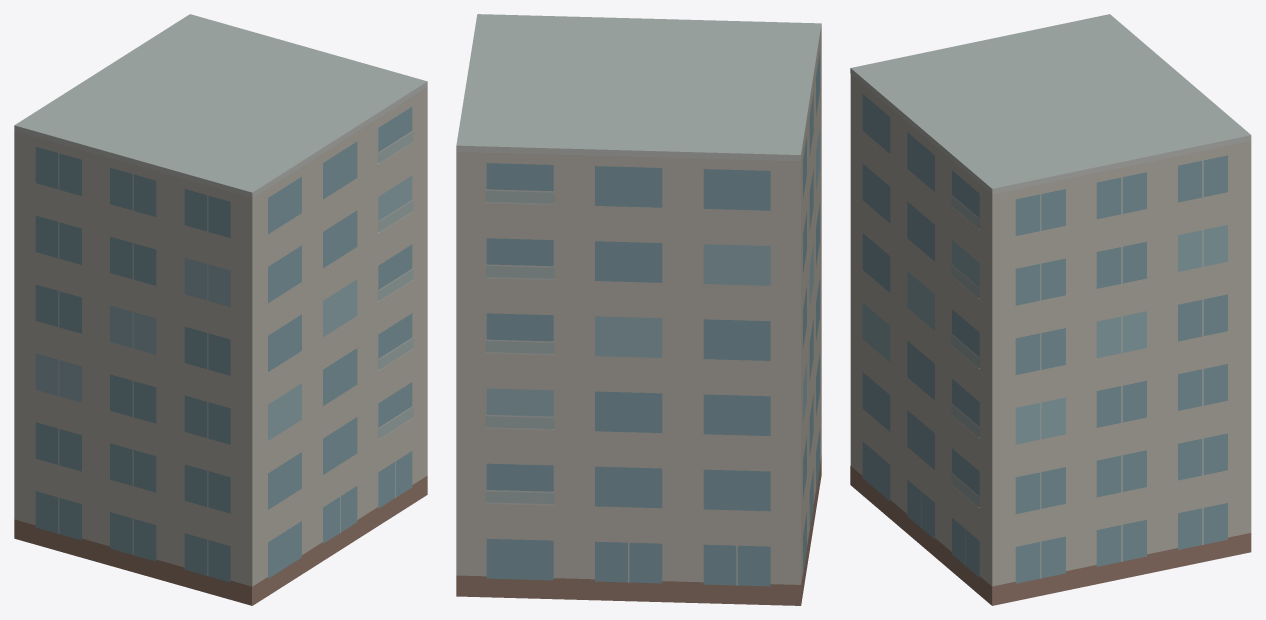
Rendered from survey-upis-32991761.glb.
3 renders of one model, left to right at view 1: azimuth 30°, elevation 25°; view 2: azimuth 150°, elevation 25°; view 3: azimuth 270°, elevation 25°, orthographic. The views are drawn at different scales.
Parts seen in each view (by area): view 1: survey-upis-32991761.tmp; view 2: survey-upis-32991761.tmp; view 3: survey-upis-32991761.tmp.
Part boxes in pixels (left/top/right/bottom): survey-upis-32991761.tmp: left=14, top=14, right=427, bottom=605; survey-upis-32991761.tmp: left=456, top=14, right=821, bottom=605; survey-upis-32991761.tmp: left=850, top=14, right=1251, bottom=605.
Size of the model in its own units: 16.33 by 18.15 by 15.82.
